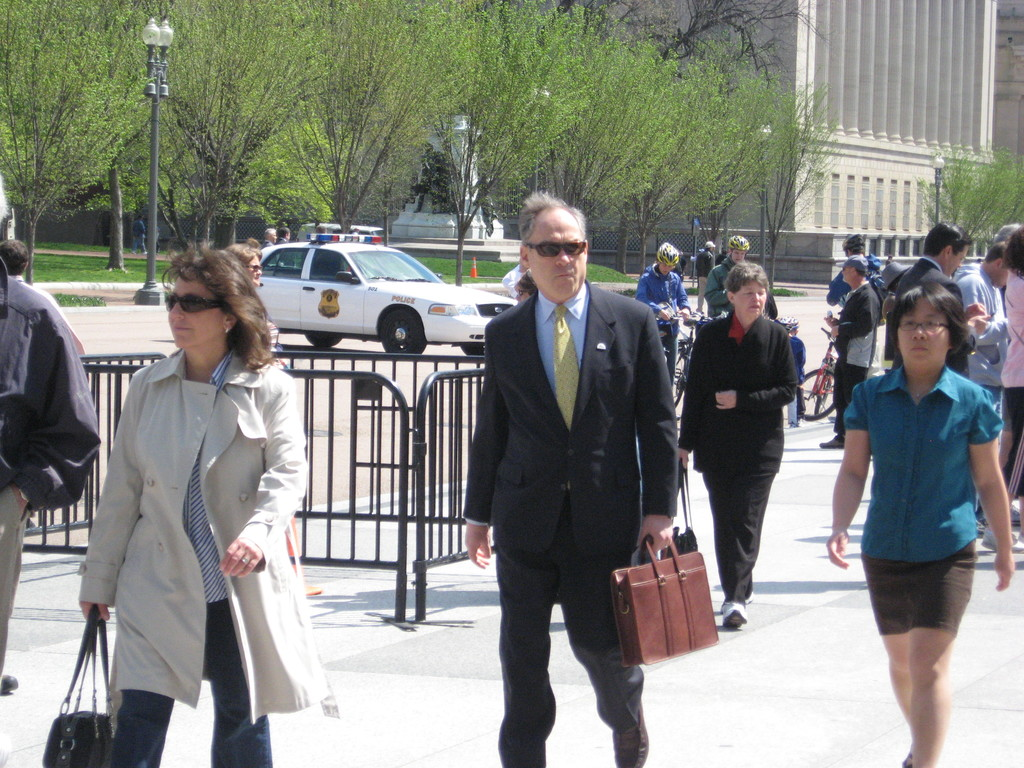Car: (250, 230, 522, 365)
